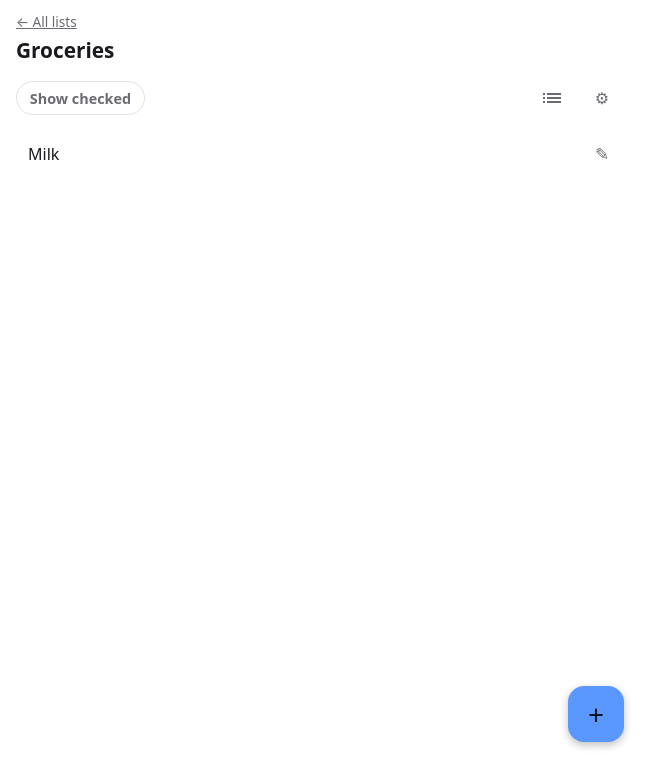
Scenario: ListPropsPage clear-checked (T-75) › hides the clear-checked section when nothing is checked
The image size is (645, 762).
Expected: the link "Groceries" is shown, [16, 36, 114, 64]
Click the link named "List properties": (602, 98) [595, 87, 609, 109]
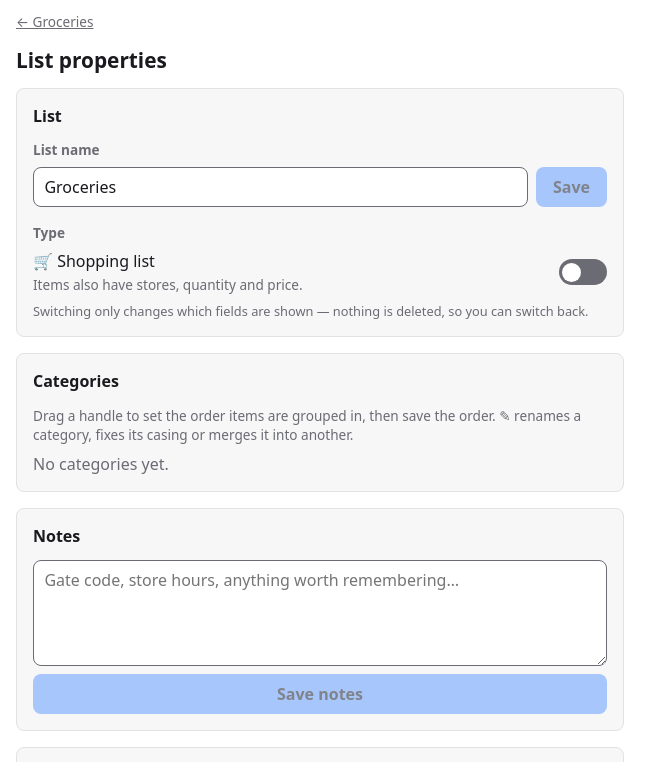
Expected: the heading "List properties" is shown, [16, 46, 167, 74]
